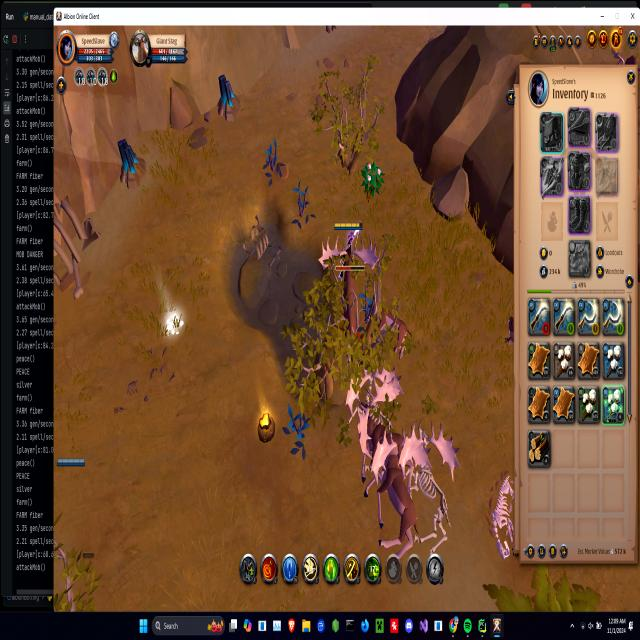hide: (362, 160, 383, 200)
mob: (362, 441, 418, 560), (348, 397, 412, 469), (363, 296, 412, 355)
ore: (318, 240, 377, 352)
player: (209, 66, 246, 127), (114, 137, 146, 188)
red: (331, 220, 366, 279), (55, 455, 86, 470)
stone: (161, 308, 186, 342)
